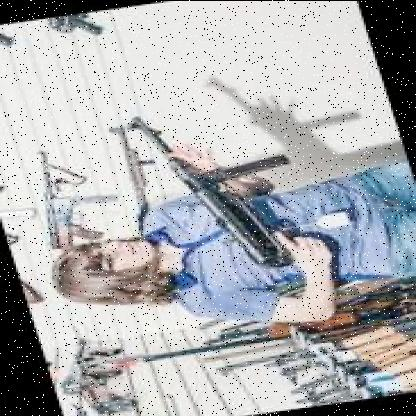rifle: (118, 94, 322, 282)
